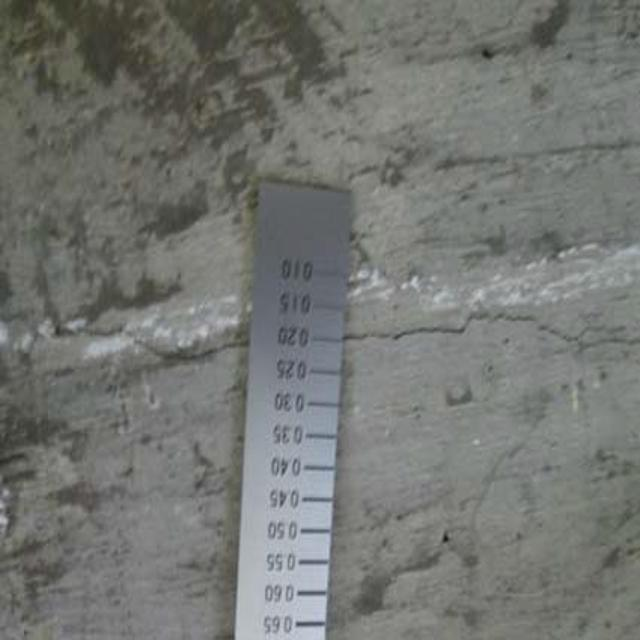crack: (9, 297, 250, 374), (347, 306, 637, 361)
